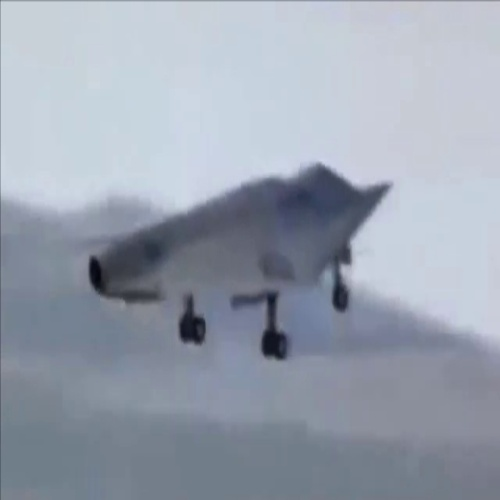uav990: (85, 160, 398, 364)
